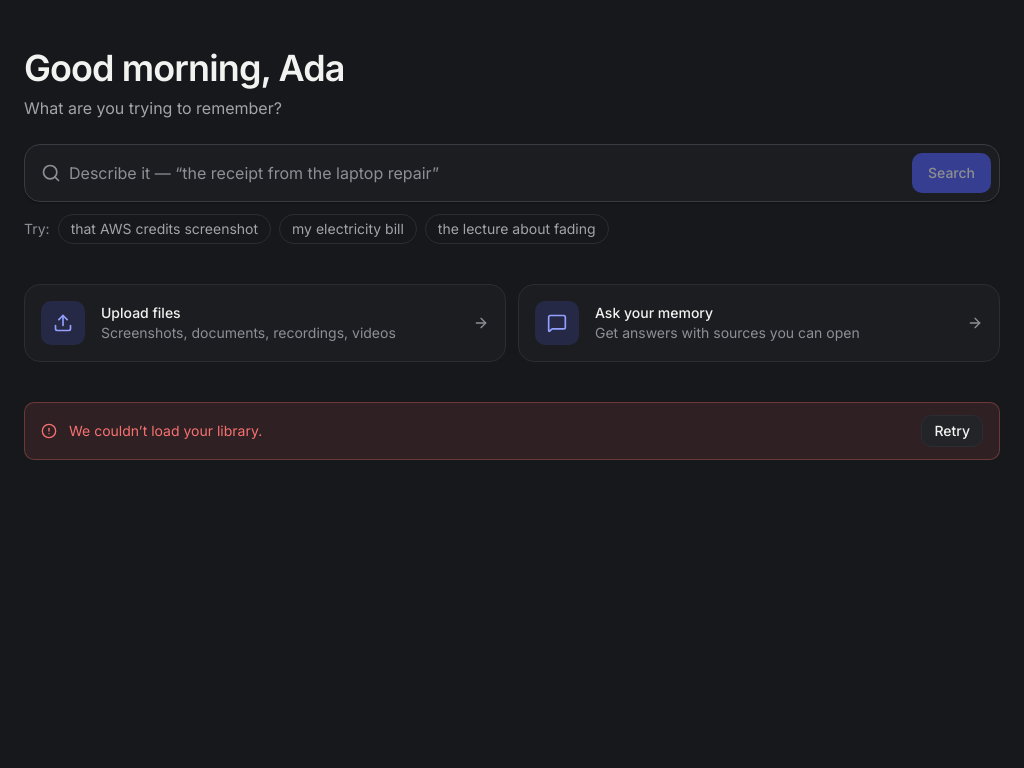
Test: HomePage › shows a friendly error with Retry when the library cannot load
Check: the message shows "We couldn’t load your library.", box top-left (69, 422), bottom-right (262, 439)
What coordinates should you click on to do the following:
click the button "Retry"
I would click on:
 (952, 431)
Its box is top-left (921, 415), bottom-right (983, 447).
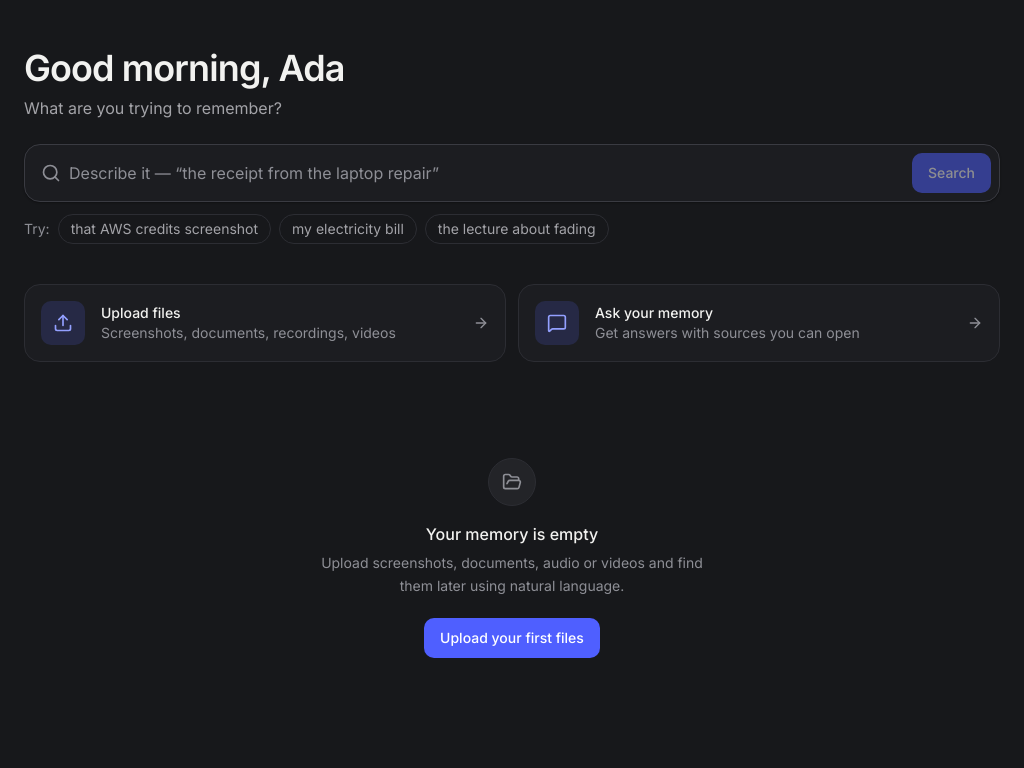
Check: the button "Upload your first files" is shown, box top-left (424, 618), bottom-right (600, 658)
